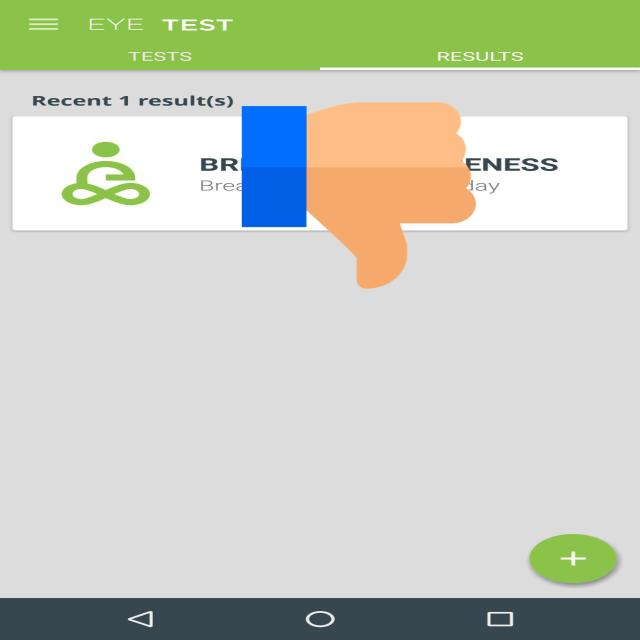obstruction: (242, 98, 476, 293)
